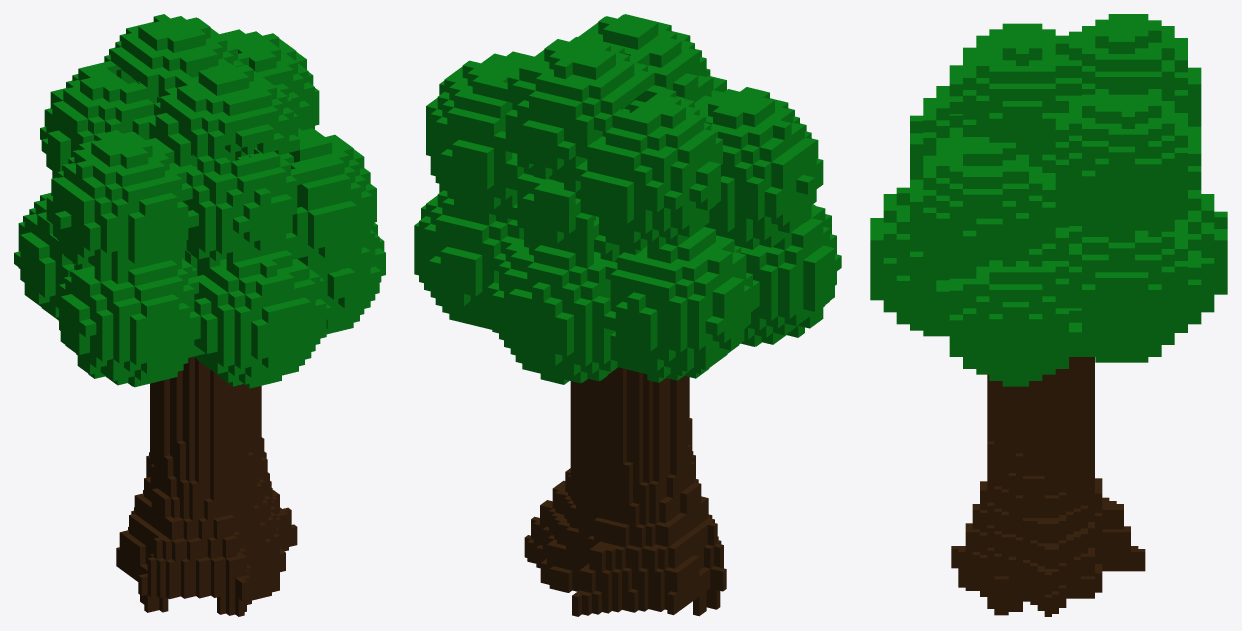
File: tree_round.fbx
3 views of the same model, side by side, from view 1: azimuth 30°, elevation 25°; view 2: azimuth 150°, elevation 25°; view 3: azimuth 270°, elevation 25° (orthographic). The views are drawn at different scales.
Visible parts, largest first — view 1: Tree; view 2: Tree; view 3: Tree.
Boxes of the visible parts, box(x1,y1,x2,y2) form: Tree: box(14, 14, 385, 616); Tree: box(414, 14, 841, 616); Tree: box(870, 14, 1227, 616).
Bounding box in the file's own units: 682 × 1107 × 635.
